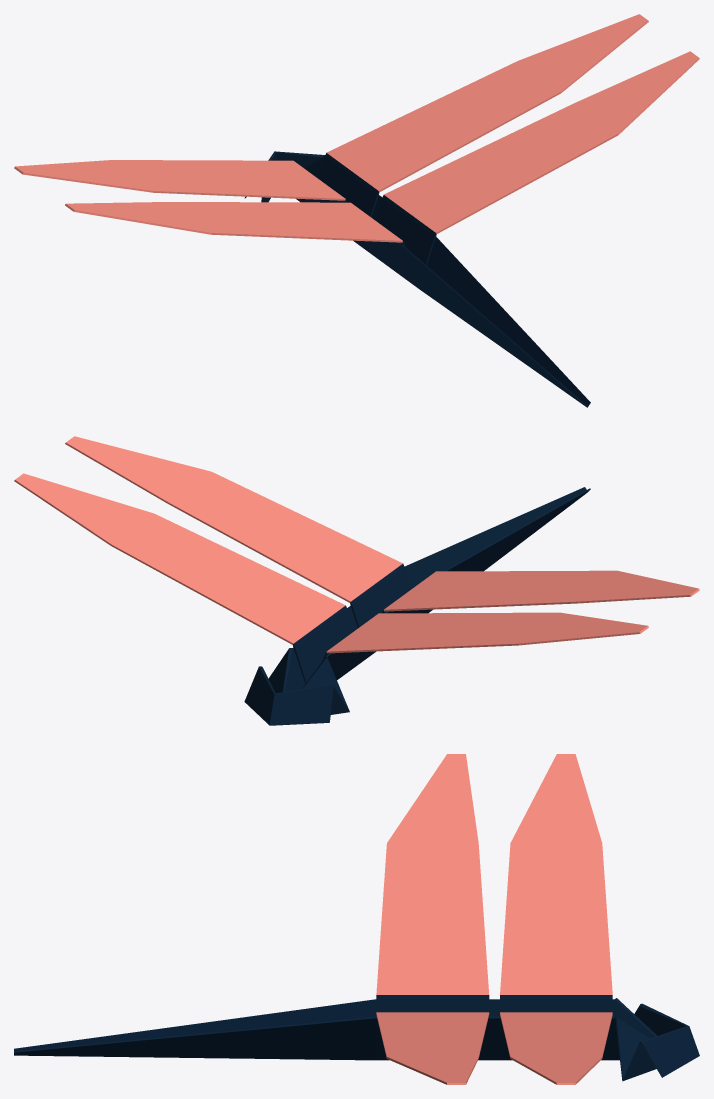
The model's file is Dragonfly.fbx.
3 views of the same model, one above another, from view 1: azimuth 30°, elevation 25°; view 2: azimuth 150°, elevation 25°; view 3: azimuth 270°, elevation 25° (orthographic). The views are drawn at different scales.
Visible parts, largest first — view 1: WingRight, WingLeft, Dragonfly; view 2: WingRight, WingLeft, Dragonfly; view 3: WingLeft, Dragonfly, WingRight.
Boxes of the visible parts, x1,y1,x2,y2 form: WingRight: (326, 14, 699, 233); WingLeft: (14, 160, 402, 242); Dragonfly: (244, 151, 590, 407); WingRight: (14, 436, 402, 644); WingLeft: (326, 570, 699, 653); Dragonfly: (244, 487, 590, 725); WingLeft: (376, 754, 612, 994); Dragonfly: (14, 995, 699, 1081); WingRight: (376, 1012, 612, 1084).
Bounding box in the file's own units: 102 × 20.54 × 89.92.
